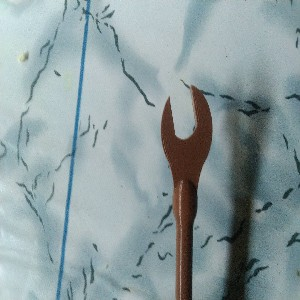spanner: (159, 83, 213, 300)
